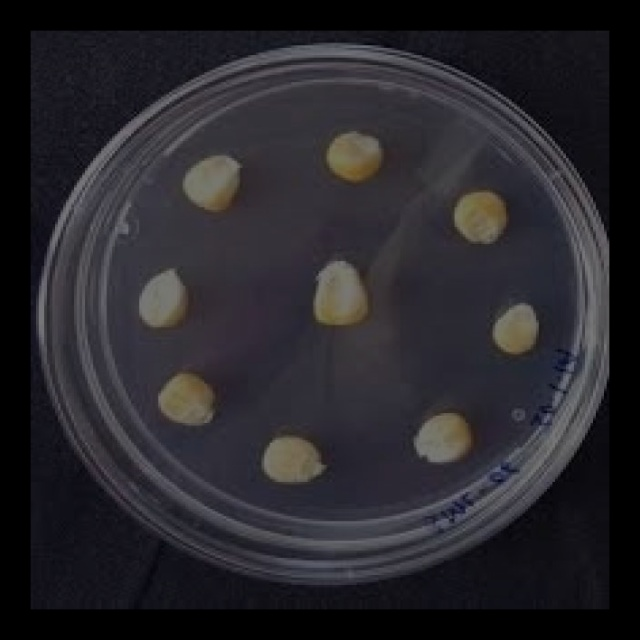Zea mays: (178, 152, 244, 215), (319, 127, 388, 186), (312, 260, 370, 330), (260, 433, 331, 490), (157, 371, 222, 433), (407, 413, 476, 469), (138, 266, 193, 333), (259, 433, 327, 486), (452, 192, 512, 249), (488, 301, 545, 359)
